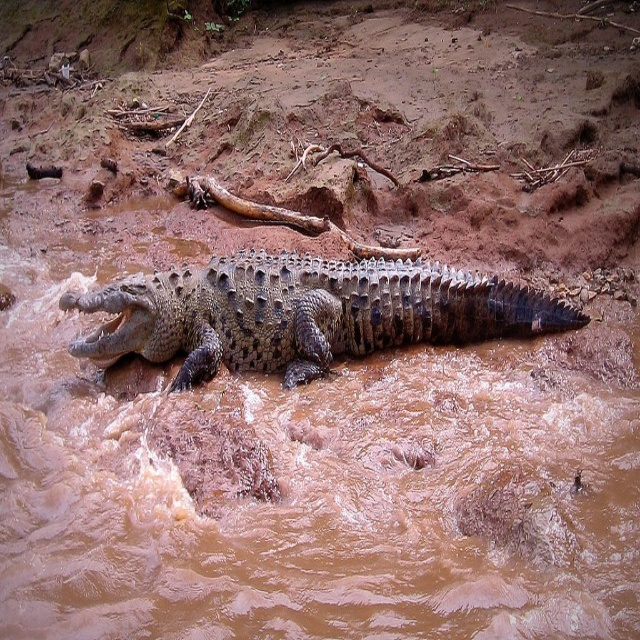Crocodile: (56, 251, 590, 392)
